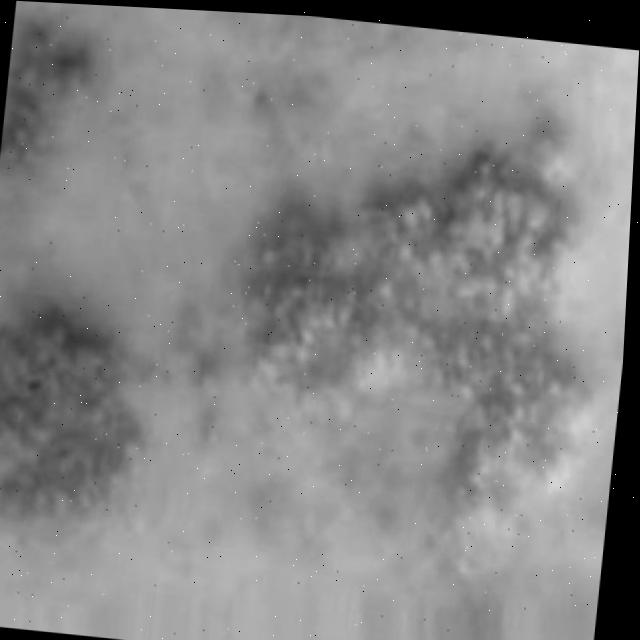Shingles: (223, 129, 634, 555), (0, 312, 129, 526), (1, 27, 86, 156)
